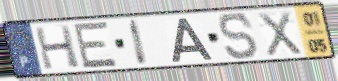A: (171, 16, 215, 64)
E: (72, 20, 120, 71)
H: (32, 24, 82, 72)
I: (127, 18, 150, 67)
S: (217, 11, 260, 61)
X: (256, 10, 305, 58)
